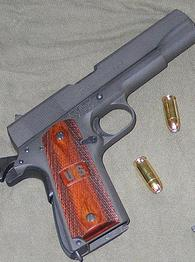gun: (1, 1, 195, 262)
